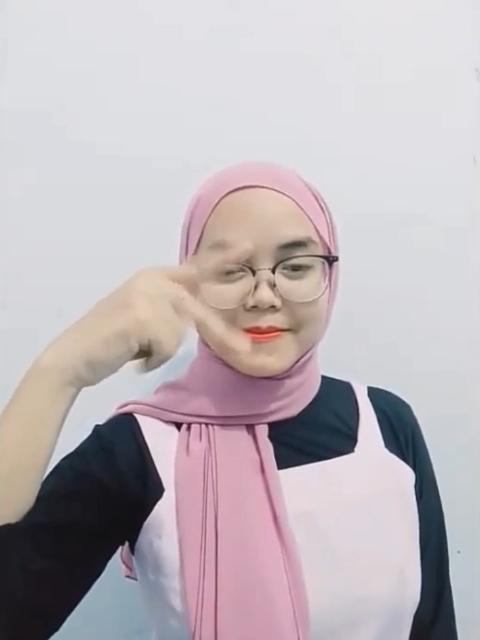K: (52, 236, 268, 380)
